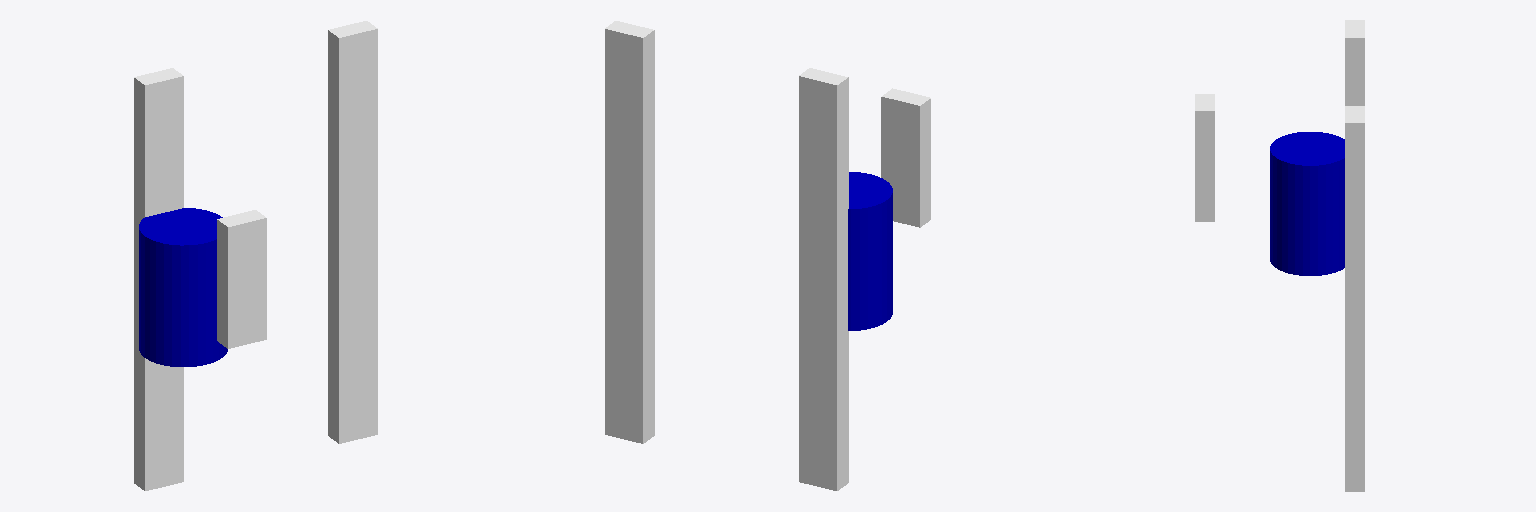
robot.urdf — materials:
<?xml version="1.0"?>
<robot name="materials">

  <material name="blue">
    <color rgba="0 0 0.8 1"/>
  </material>

  <material name="white">
    <color rgba="1 1 1 1"/>
  </material>


  <link name="base_link">
    <visual>
      <geometry>
        <cylinder length="0.6" radius="0.2"/>
      </geometry>
      <material name="blue"/>
    </visual>
  </link>

  <link name="right_leg">
    <visual>
      <geometry>
        <box size="0.6 0.1 0.2"/>
      </geometry>
      <origin rpy="0 1.57075 0" xyz="0 0 -0.3"/>
      <material name="white"/>
    </visual>
  </link>

  <joint name="base_to_right_leg" type="fixed">
    <parent link="base_link"/>
    <child link="right_leg"/>
    <origin xyz="0 -0.52 0.55"/>
  </joint>

  <link name="left_leg">
    <visual>
      <geometry>
        <box size="2. 0.1 0.2"/>
      </geometry>
      <origin rpy="0 1.57075 0" xyz="0 0 -0.3"/>
      <material name="white"/>
    </visual>
  </link>

  <joint name="base_to_left_leg" type="fixed">
    <parent link="base_link"/>
    <child link="left_leg"/>
    <origin xyz="0 0.22 0.25"/>
  </joint>

  <link name="third_leg">
    <visual>
      <geometry>
        <box size="2. 0.1 0.2"/>
      </geometry>
      <origin rpy="0 1.57075 0" xyz="0 0 -0.3"/>
      <material name="white"/>
    </visual>
  </link>

  <joint name="base_to_third" type="fixed">
    <parent link="base_link"/>
    <child link="third_leg"/>
    <origin xyz="1.0 0.22 0.25"/>
  </joint>

</robot>

--- What the picture shows (computed from the rendered views, not written in the file) ---
The picture shows the robot from 3 angles, left to right: view 1: azimuth 30°, elevation 25°; view 2: azimuth 150°, elevation 25°; view 3: azimuth 270°, elevation 25°; orthographic projection.
Model materials with 4 links and 3 joints (3 fixed), rooted at base_link, posed every joint at zero.
Links seen in each view (by area): view 1: third_leg, left_leg, base_link, right_leg; view 2: third_leg, left_leg, base_link, right_leg; view 3: base_link, third_leg, right_leg, left_leg.
Link boxes in pixels (bbox=[...]): third_leg: bbox=[328, 21, 377, 443]; left_leg: bbox=[134, 68, 183, 490]; base_link: bbox=[139, 208, 227, 366]; right_leg: bbox=[217, 210, 266, 348]; third_leg: bbox=[605, 21, 654, 443]; left_leg: bbox=[799, 68, 848, 490]; base_link: bbox=[848, 172, 892, 330]; right_leg: bbox=[881, 88, 930, 227]; base_link: bbox=[1270, 132, 1344, 275]; third_leg: bbox=[1345, 106, 1364, 491]; right_leg: bbox=[1195, 94, 1214, 221]; left_leg: bbox=[1345, 20, 1364, 105].
Size in the robot's own frame: 1.3 by 0.84 by 2 metres.
Geometry: primitives only (box / cylinder / sphere), no mesh files.